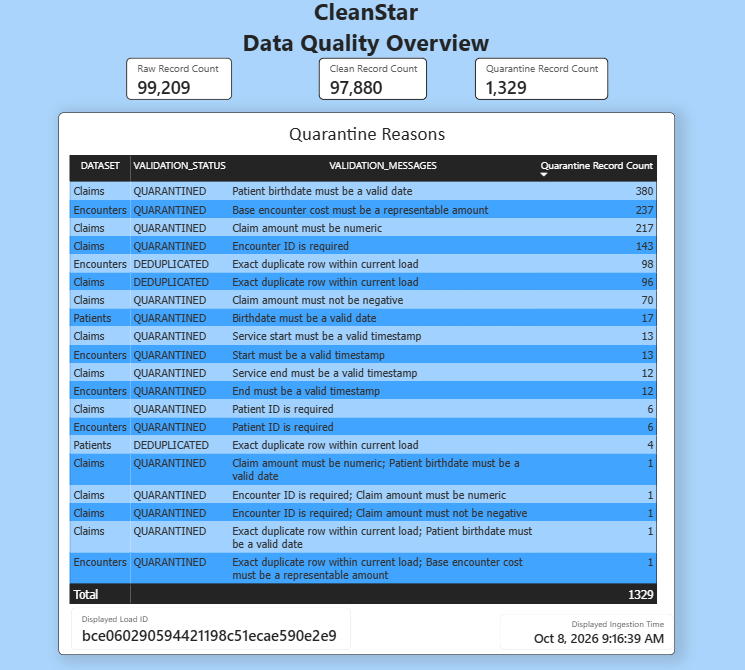

The dashboard page shown, as its layout file describes it:
{"tool":"powerbi","page":{"name":"Page 1","canvas":[1920,1080],"ordinal":0},"visuals":[{"type":"cardVisual","fields":{"Data":["Raw Records.Raw Record Count"]},"box":[576,100,170,68],"z":0,"group":"g2"},{"type":"cardVisual","fields":{"Data":["Clean Records.Clean Record Count"]},"box":[884,100,174,68],"z":1000,"group":"g2"},{"type":"cardVisual","fields":{"Data":["Quarantine Records.Quarantine Record Count"]},"box":[1134,100,214,68],"z":2000,"group":"g2"},{"type":"tableEx","title":"Quarantine Reasons","fields":{"Values":["Quarantine Records.DATASET","Quarantine Records.VALIDATION_STATUS","Quarantine Records.VALIDATION_MESSAGES","Quarantine Records.Quarantine Record Count"]},"box":[468,188,986,868],"z":3000,"group":"g1"},{"type":"textbox","box":[658,0,604,100],"z":4000},{"type":"cardVisual","fields":{"Data":["Raw Records.Displayed Load ID"]},"box":[488,980,448,68],"z":5000,"group":"g1"},{"type":"cardVisual","fields":{"Data":["Raw Records.Displayed Ingestion Time"]},"box":[1174,990,278,58],"z":6000,"group":"g1"},{"type":"group","id":"g1","title":"Group 1","box":[468,188,986,868],"z":6001},{"type":"group","id":"g2","title":"Group 2","box":[576,100,772,68],"z":6002}]}

Visuals, with their boxes on the page's 1920x1080 design canvas (x1, y1, x2, y2). These are canvas units, not pixel positions in the 745x670 screenshot, which may show the page scaled, cropped or inside an application window:
cardVisual - Raw Records.Raw Record Count: (x1=576, y1=100, x2=746, y2=168)
cardVisual - Clean Records.Clean Record Count: (x1=884, y1=100, x2=1058, y2=168)
cardVisual - Quarantine Records.Quarantine Record Count: (x1=1134, y1=100, x2=1348, y2=168)
"Quarantine Reasons" tableEx: (x1=468, y1=188, x2=1454, y2=1056)
textbox: (x1=658, y1=0, x2=1262, y2=100)
cardVisual - Raw Records.Displayed Load ID: (x1=488, y1=980, x2=936, y2=1048)
cardVisual - Raw Records.Displayed Ingestion Time: (x1=1174, y1=990, x2=1452, y2=1048)
"Group 1" group: (x1=468, y1=188, x2=1454, y2=1056)
"Group 2" group: (x1=576, y1=100, x2=1348, y2=168)
